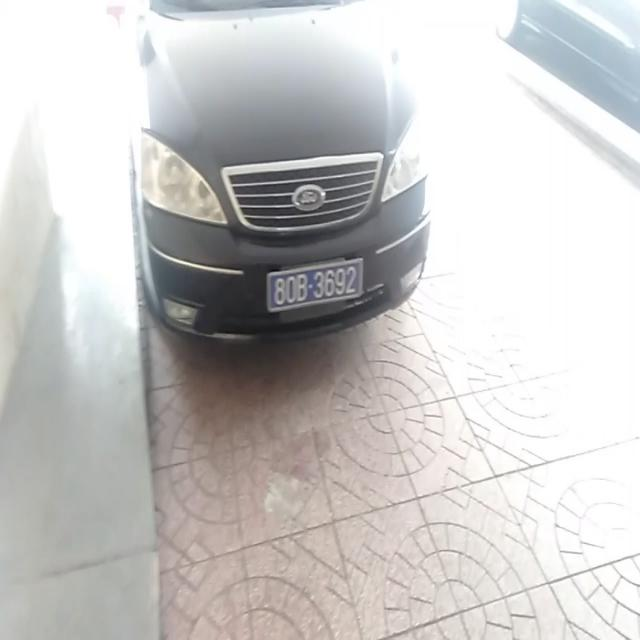bien_xanh: (265, 251, 368, 315)
